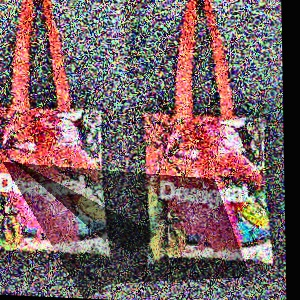desigual: (96, 73, 286, 280), (82, 71, 106, 265)
